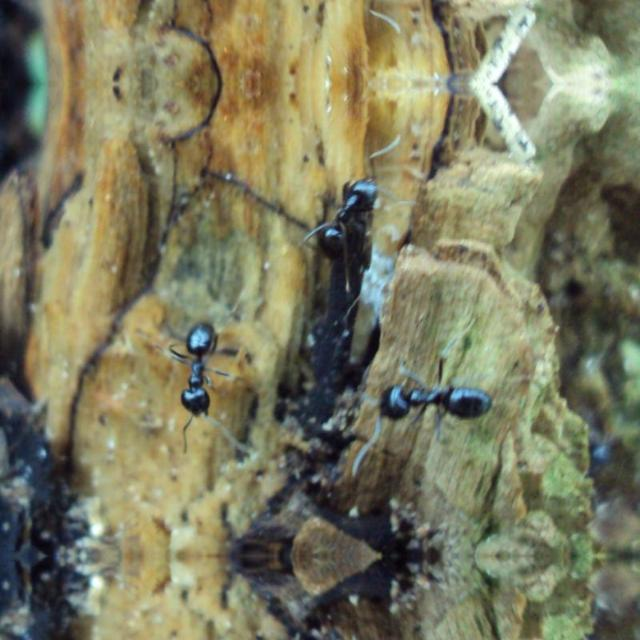Lasius: (302, 136, 402, 280), (154, 302, 246, 443), (366, 360, 508, 448), (300, 0, 402, 32)
